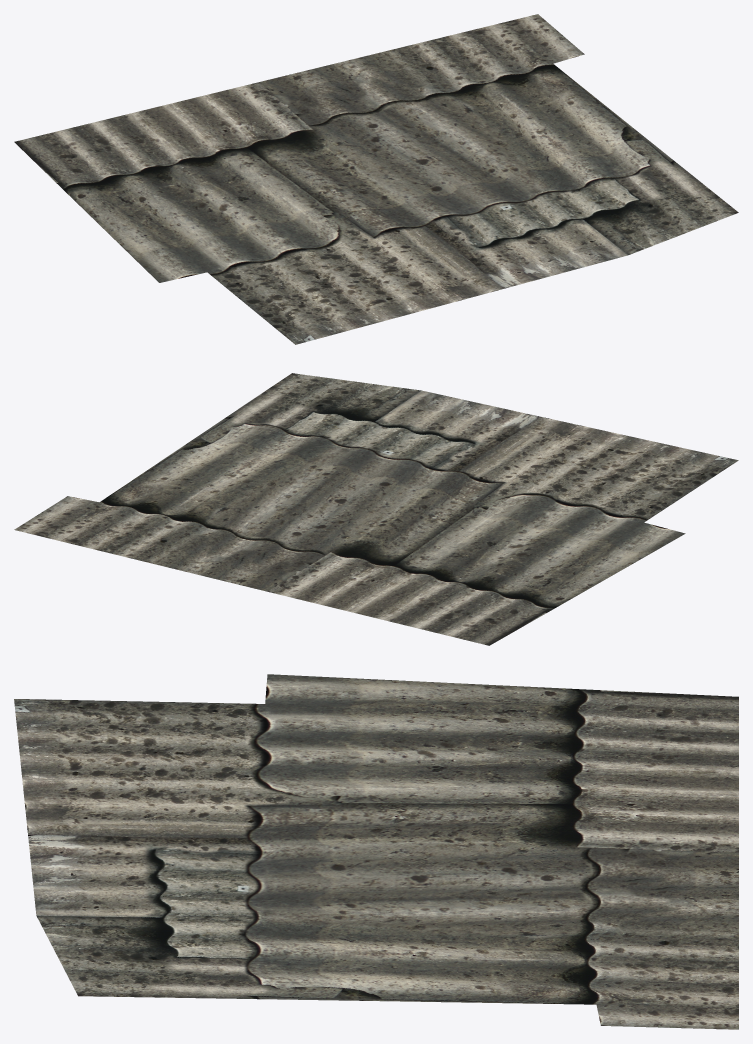
The model's file is Metal_scr1_LOD1.fbx.
3 views of the same model, one above another, from view 1: azimuth 30°, elevation 25°; view 2: azimuth 150°, elevation 25°; view 3: azimuth 270°, elevation 25° (orthographic). The views are drawn at different scales.
Visible parts, largest first — view 1: polySurface229; view 2: polySurface229; view 3: polySurface229.
Part boxes in pixels (x1,y1,x2,y2): polySurface229: (14,14,738,344); polySurface229: (14,373,738,645); polySurface229: (14,674,738,1029).
Bounding box in the file's own units: 1.81 × 0 × 1.56.
